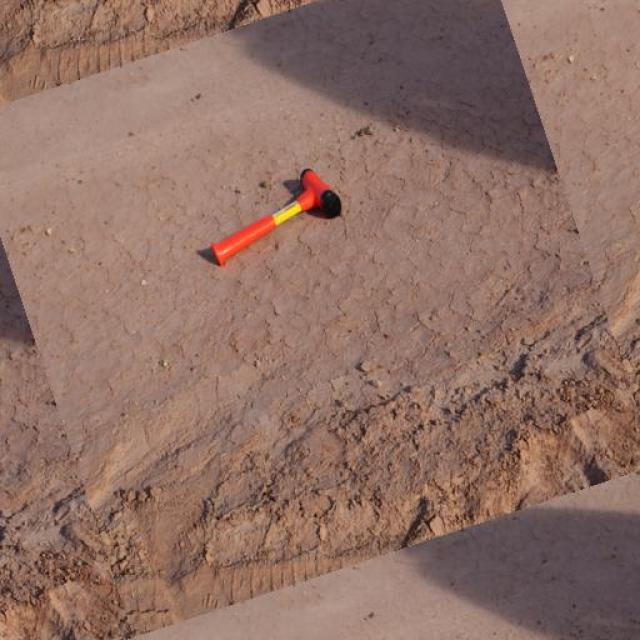mallet: (208, 166, 342, 266)
